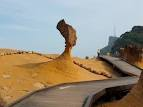yehliu: (53, 18, 83, 48)
